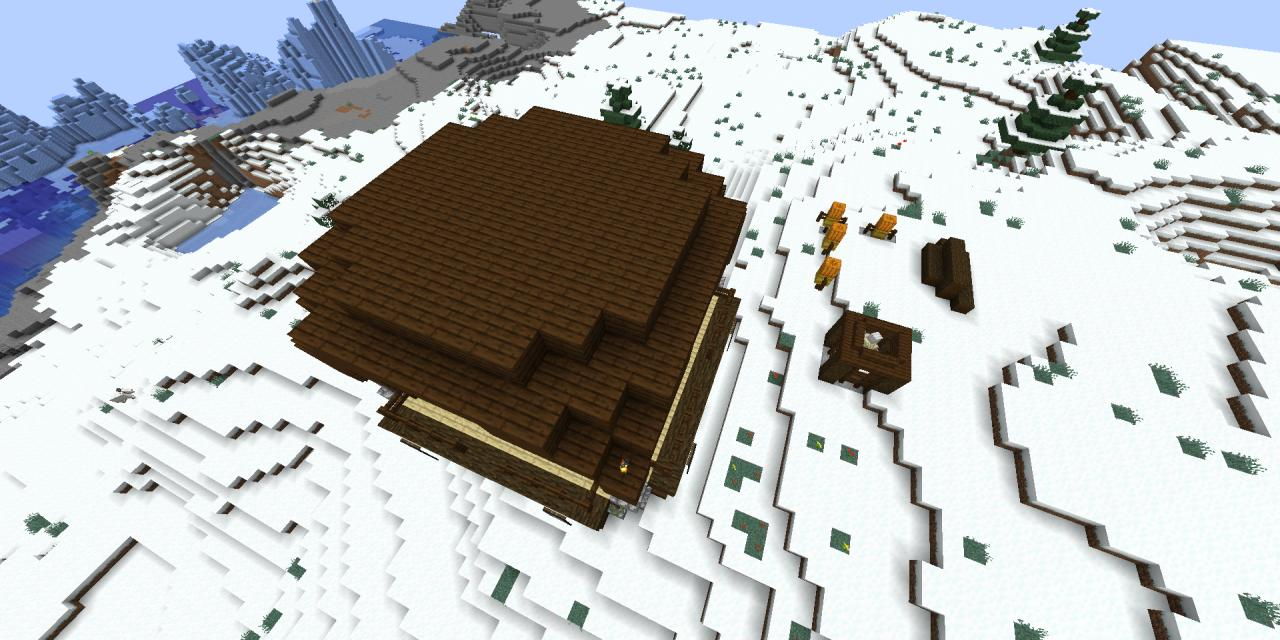pillager outpost: (282, 89, 757, 538)
